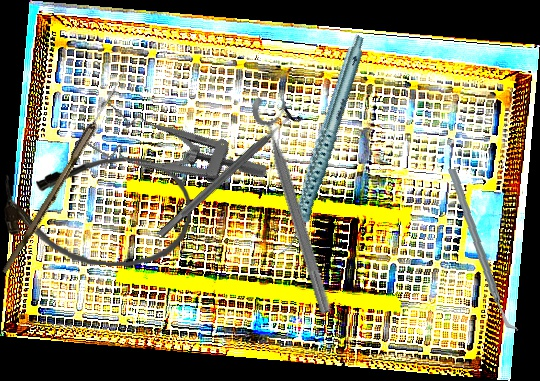Cannula: (1, 151, 194, 270)
Chopper: (437, 168, 530, 331)
Fixation Ring: (248, 89, 350, 317), (150, 99, 304, 246)
Handpiece: (235, 33, 408, 259)
Speculum: (79, 75, 270, 232)
Surgical Spoon: (1, 68, 129, 277)
